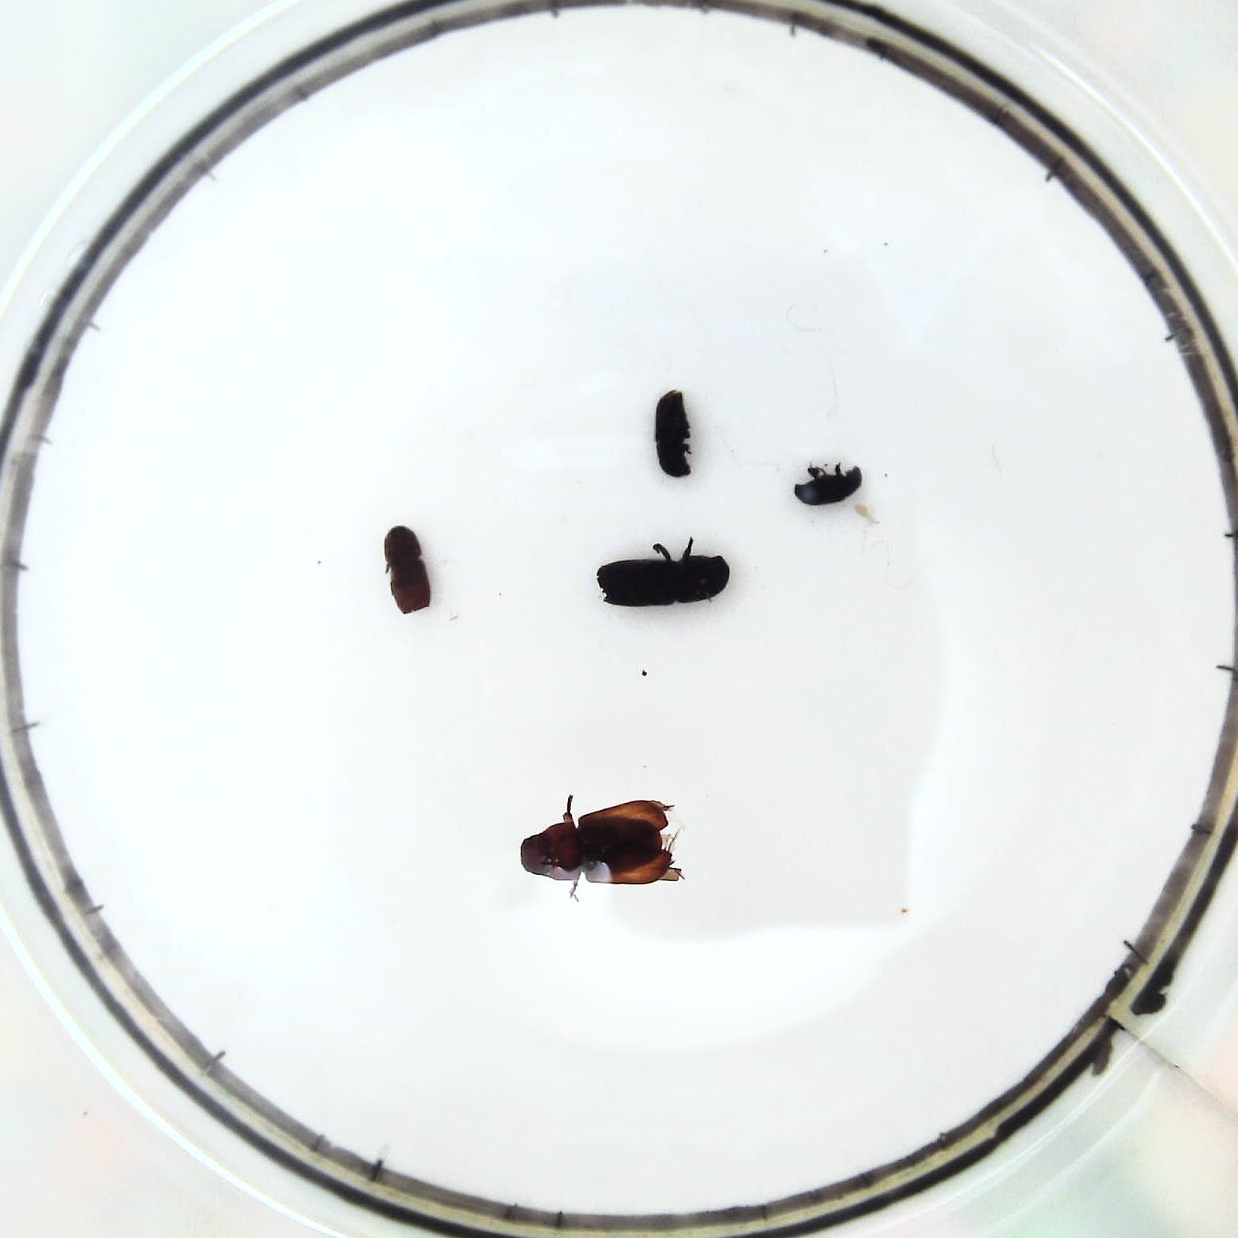Boerner: (592, 541, 729, 613)
Leconte: (520, 795, 682, 891)
Linnaeus: (380, 526, 432, 614)
armandi: (652, 385, 695, 480)
coleoptera: (786, 463, 864, 508)
